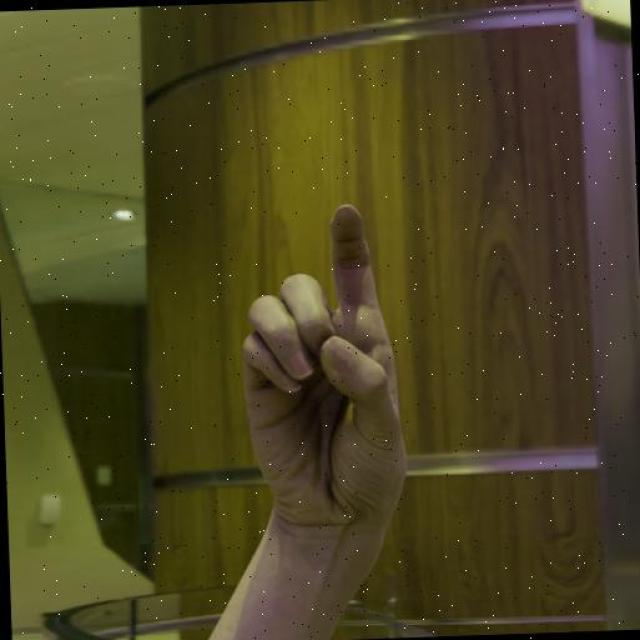X: (232, 198, 412, 538)
